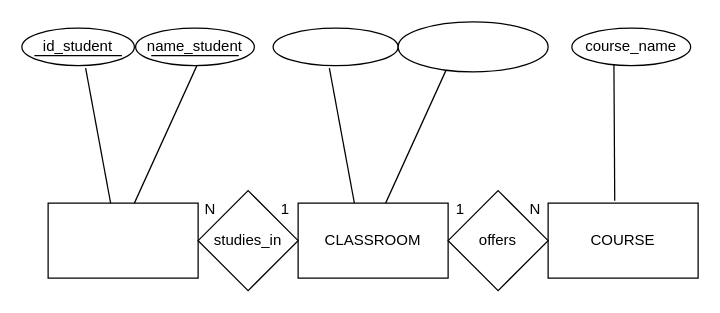
The diagram is 720 pixels wide and 313 high, and some of its shapes have lost their labels. Each missing label, with the centre of its shape:
classroom_description: (472,46)
classroom_id: (335,46)
STUDENT: (122,240)
